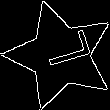L_W: (31, 33, 90, 77)
